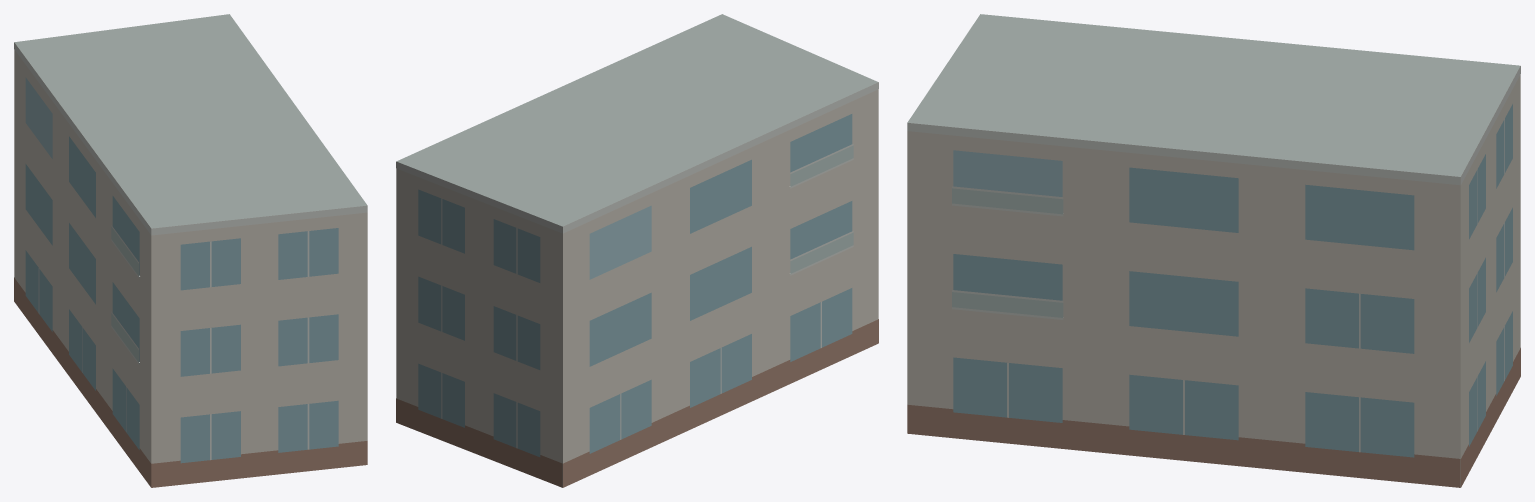
Rendered from survey-upis-33046940.glb.
3 views of the same model, side by side, from view 1: azimuth 30°, elevation 25°; view 2: azimuth 150°, elevation 25°; view 3: azimuth 270°, elevation 25° (orthographic). The views are drawn at different scales.
Visible parts, largest first — view 1: survey-upis-33046940.tmp; view 2: survey-upis-33046940.tmp; view 3: survey-upis-33046940.tmp.
Boxes of the visible parts, x1,y1,x2,y2 form: survey-upis-33046940.tmp: (14,14,367,487); survey-upis-33046940.tmp: (396,14,878,487); survey-upis-33046940.tmp: (907,14,1520,487).
Size of the model in its own units: 10.3 by 9.15 by 16.38.
